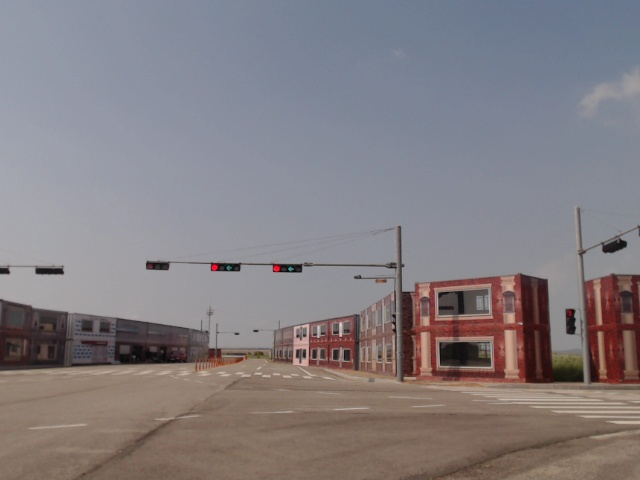left_green_4: (211, 263, 241, 272), (273, 264, 302, 272)
